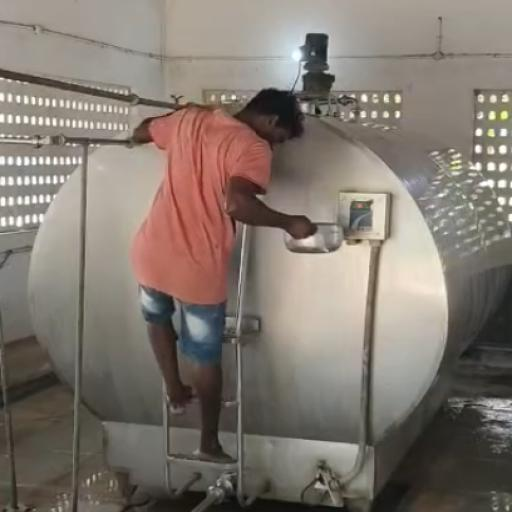silo: (26, 97, 511, 504)
vessel: (282, 221, 344, 255)
